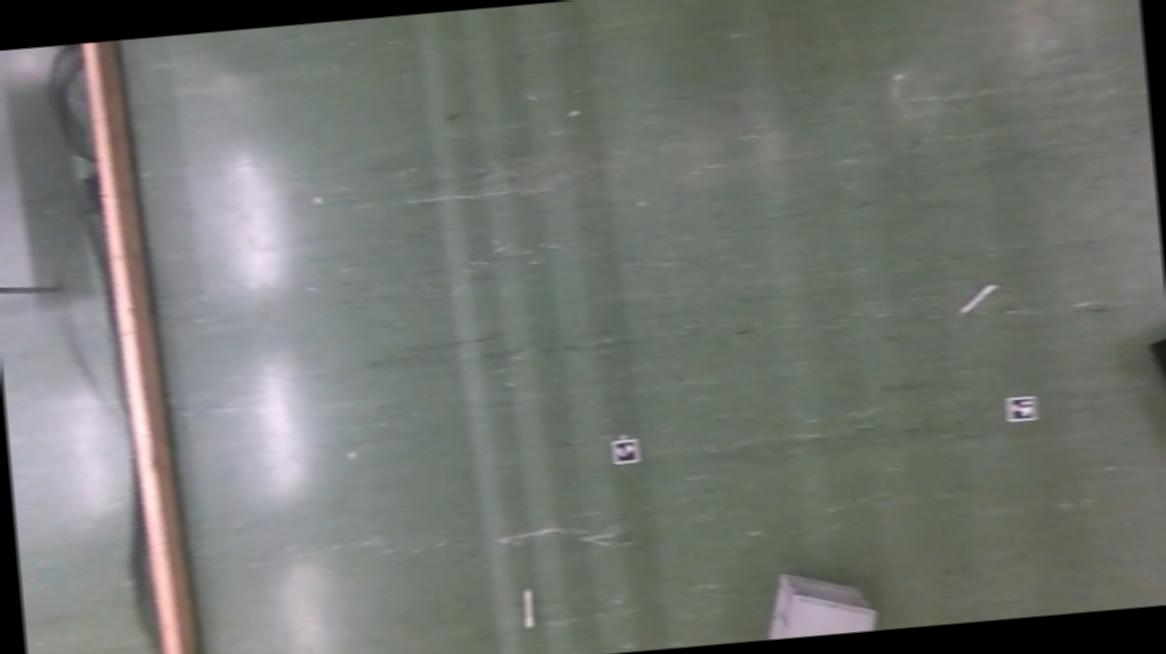probes: (958, 282, 996, 312), (520, 587, 533, 626)
rako: (762, 564, 879, 639), (1148, 317, 1166, 464)
